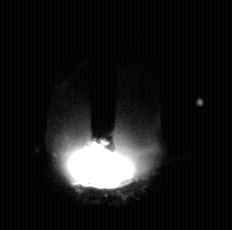arame: (92, 0, 117, 152)
poca: (46, 0, 159, 230)
